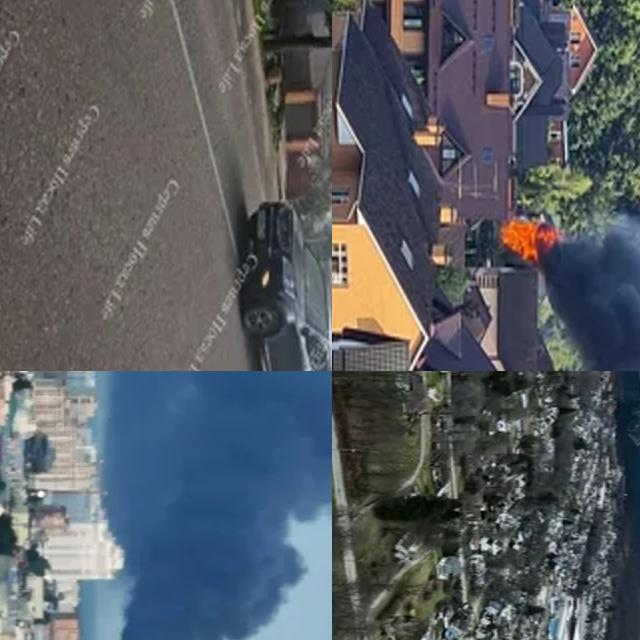smoke: (68, 371, 332, 640)
